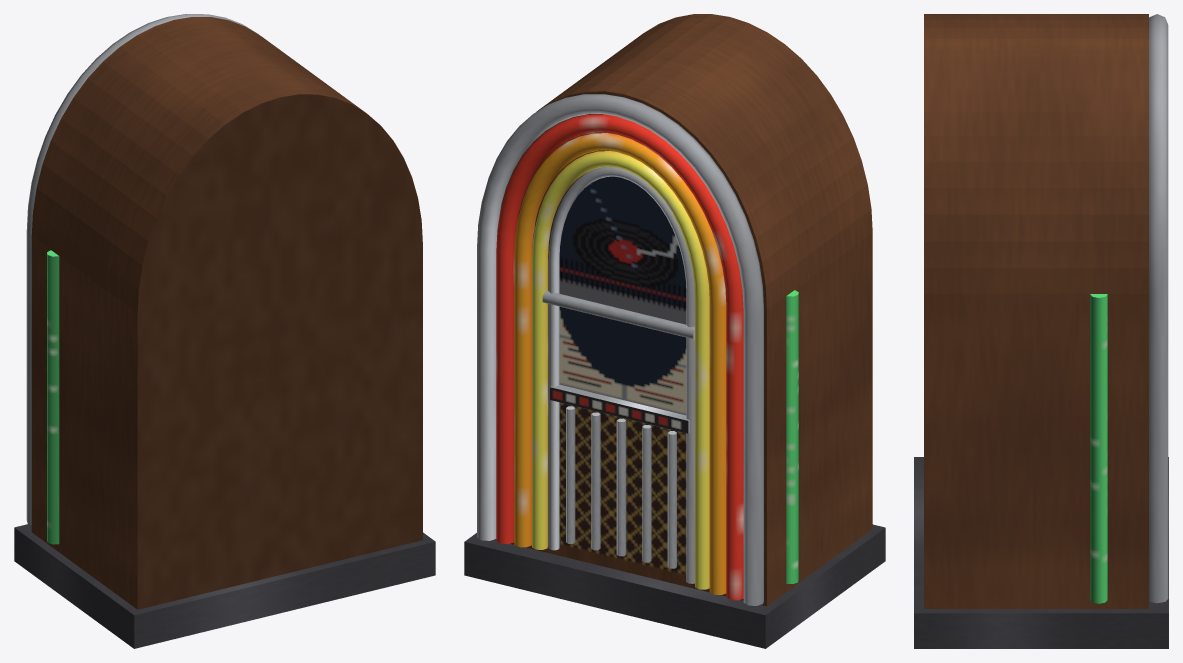
File: csmjukebox.obj
The picture shows the model from 3 angles, left to right: view 1: azimuth 30°, elevation 25°; view 2: azimuth 150°, elevation 25°; view 3: azimuth 270°, elevation 25°; orthographic projection. The views are drawn at different scales.
Visible parts, largest first — view 1: csmjukebox; view 2: csmjukebox; view 3: csmjukebox.
Part boxes in pixels (x1,y1,x2,y2): csmjukebox: (14, 14, 435, 648); csmjukebox: (464, 14, 885, 648); csmjukebox: (914, 14, 1168, 648).
Size of the model in its own units: 0.925 by 1.5 by 0.6375.
